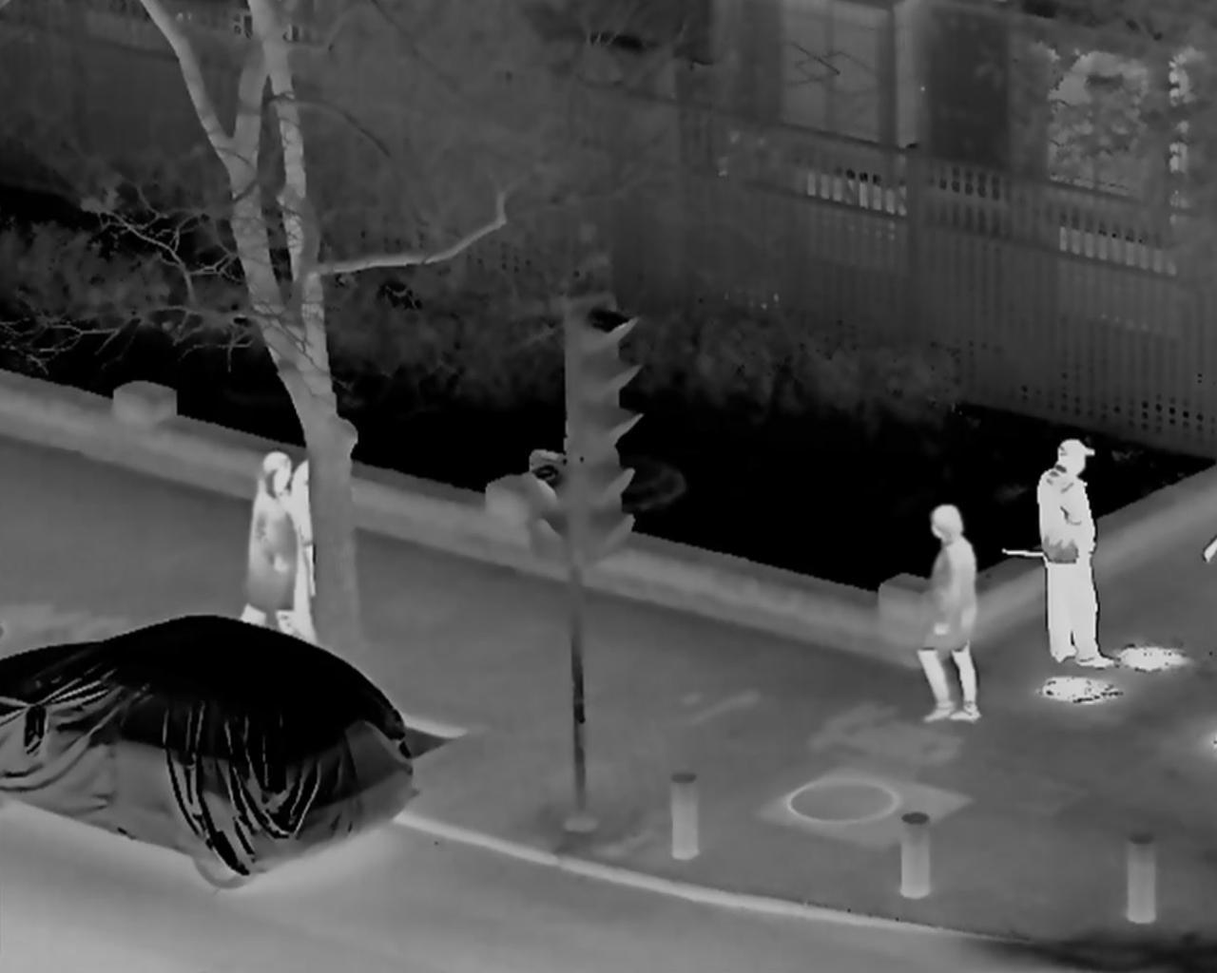person: (1033, 439, 1112, 672), (911, 505, 984, 724), (246, 450, 305, 652)
